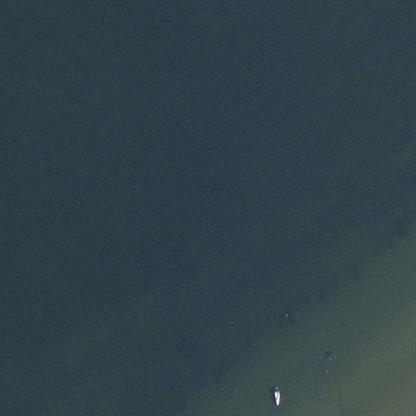ship: (271, 395, 280, 398)
